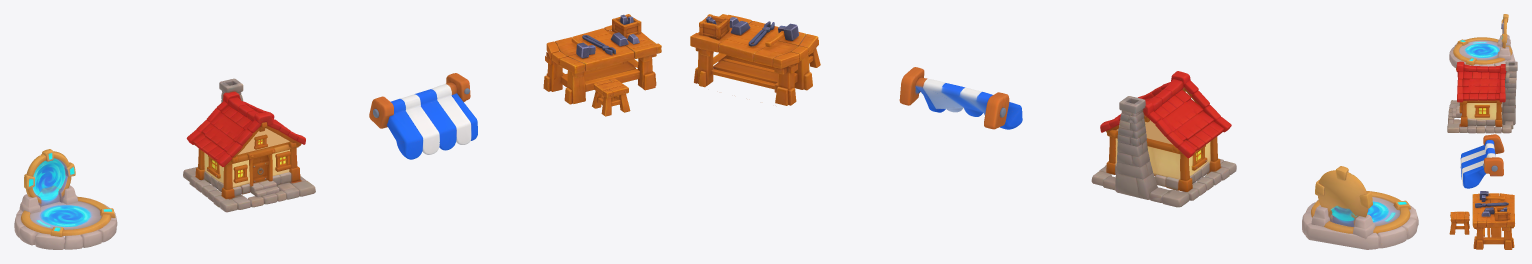
File: reuse.glb
3 views of the same model, side by side, from view 1: azimuth 30°, elevation 25°; view 2: azimuth 150°, elevation 25°; view 3: azimuth 270°, elevation 25° (orthographic). The views are drawn at different scales.
Parts seen in each view (by area): view 1: cottage_shell, workbench, portal_small, cottage_awning; view 2: cottage_shell, workbench, portal_small, cottage_awning; view 3: cottage_shell, workbench, portal_small, cottage_awning.
Part boxes in pixels (x1,y1,x2,y2): cottage_shell: (183, 78, 315, 212); workbench: (543, 14, 661, 116); portal_small: (14, 149, 117, 249); cottage_awning: (369, 73, 477, 159); cottage_shell: (1091, 71, 1236, 207); workbench: (690, 14, 820, 105); portal_small: (1302, 166, 1418, 249); cottage_awning: (899, 67, 1022, 129); cottage_shell: (1447, 61, 1517, 133); workbench: (1449, 191, 1514, 249); portal_small: (1449, 14, 1515, 67); cottage_awning: (1460, 134, 1504, 188).
Bounding box in the file's own units: 7 × 0.8945 × 1.
4 materials, 4 textured.
